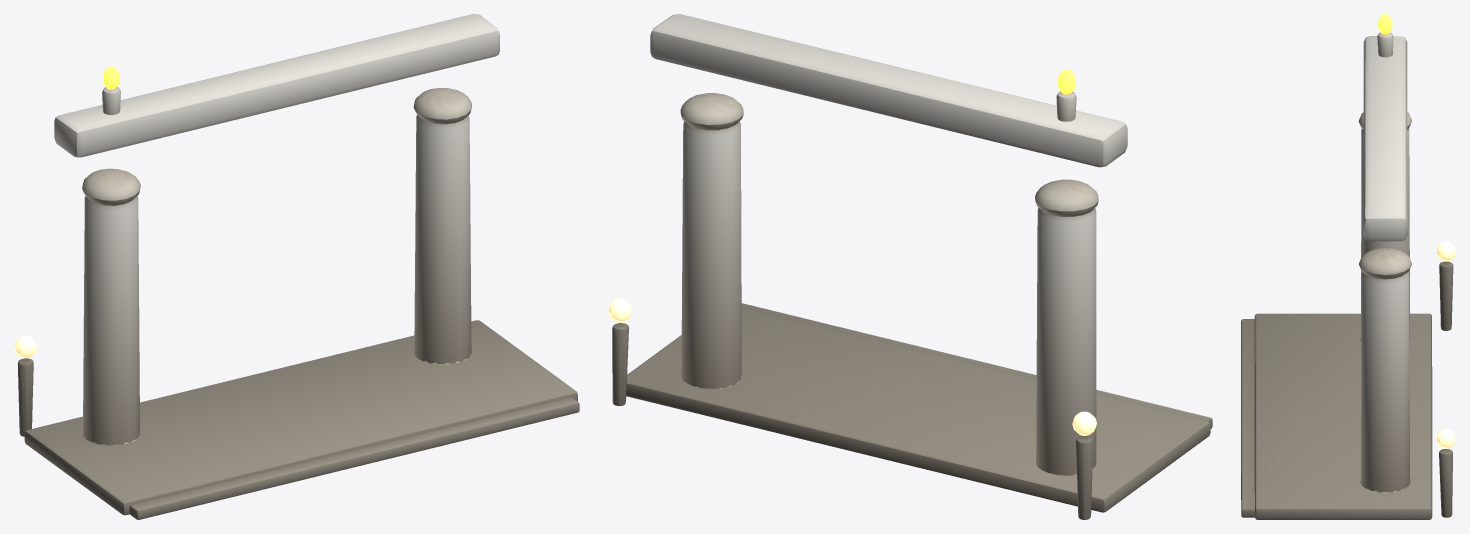
3 renders of one model, left to right at view 1: azimuth 30°, elevation 25°; view 2: azimuth 150°, elevation 25°; view 3: azimuth 270°, elevation 25°, orthographic. The views are drawn at different scales.
Parts seen in each view (by area): view 1: gate_c26d4dd2; view 2: gate_c26d4dd2; view 3: gate_c26d4dd2.
Part boxes in pixels (left/top/right/bottom): gate_c26d4dd2: left=14, top=14, right=579, bottom=519; gate_c26d4dd2: left=608, top=14, right=1212, bottom=519; gate_c26d4dd2: left=1241, top=14, right=1455, bottom=519.
Size of the model in its own units: 5.51 by 4.41 by 2.54.
